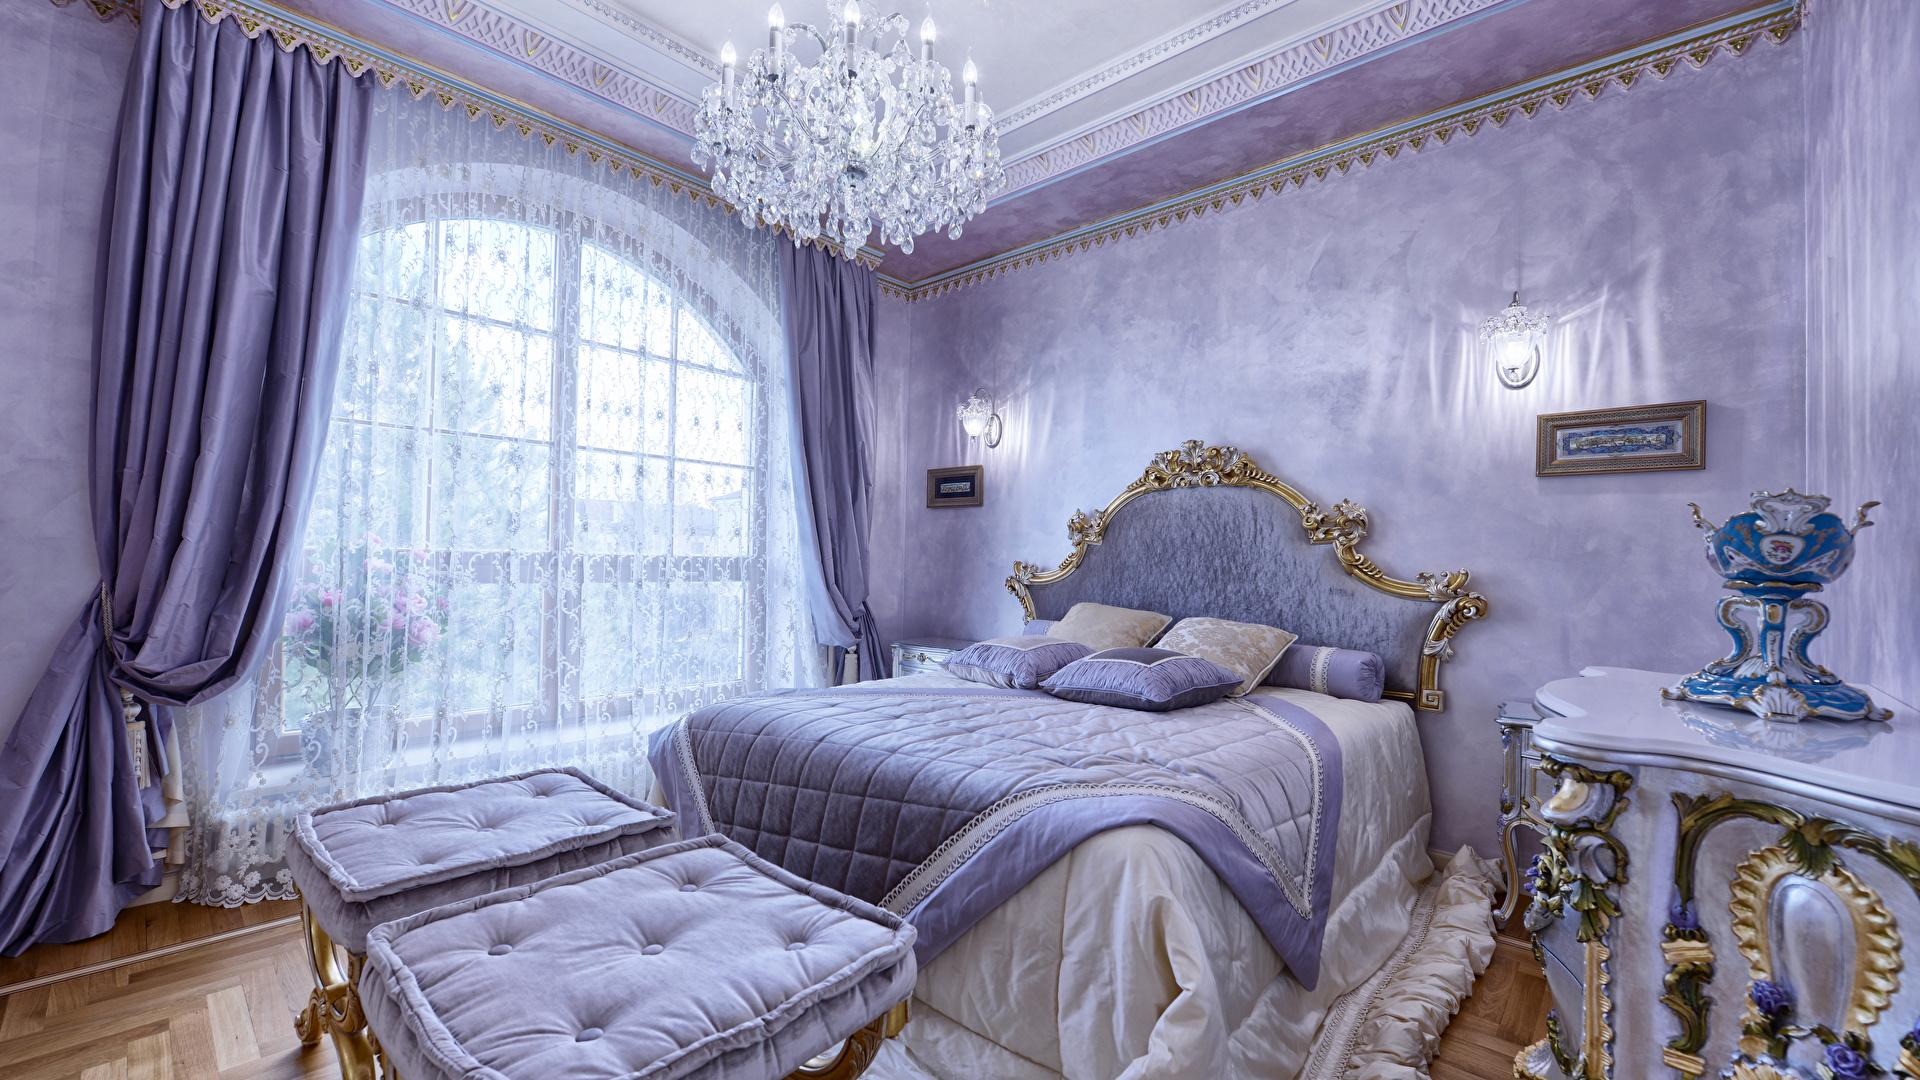bed: (807, 510, 1378, 865)
